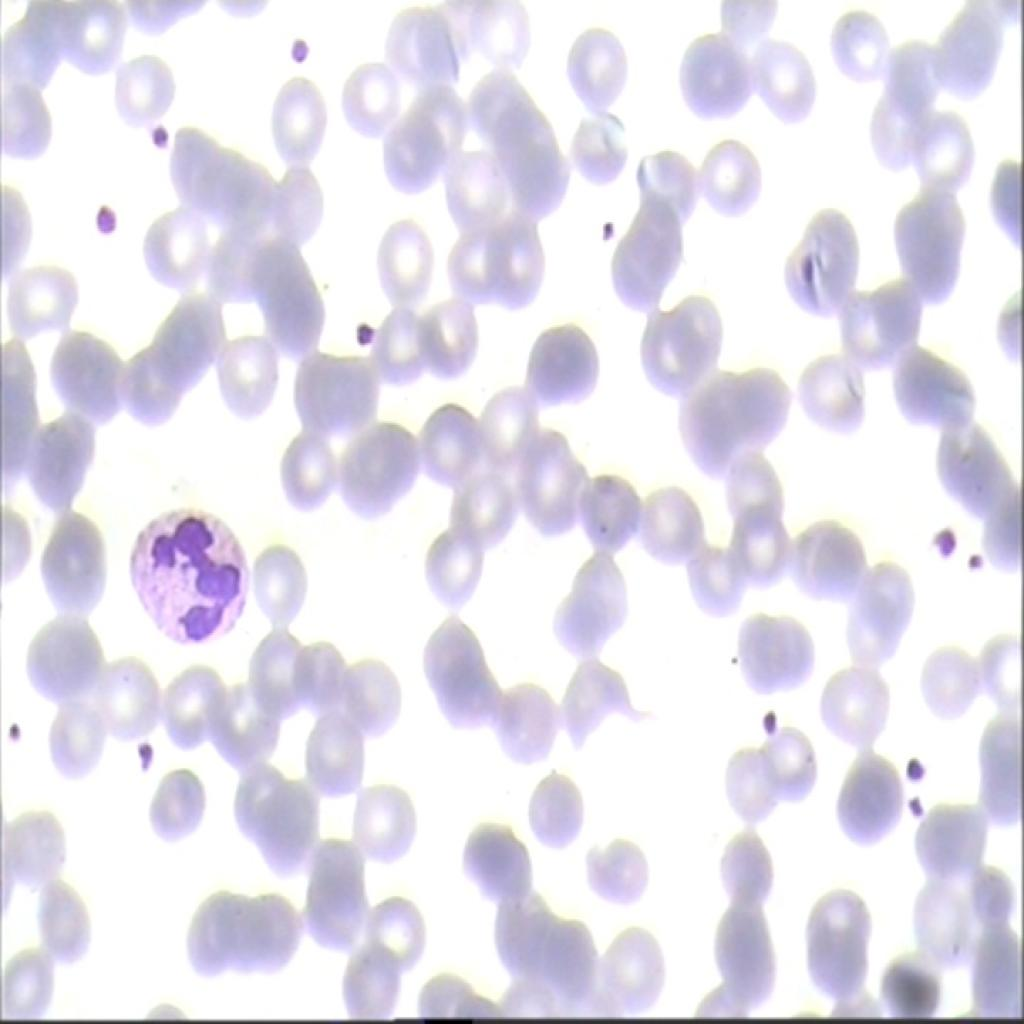Neutrofil: (134, 487, 253, 660)
Platelet: (751, 699, 801, 743), (120, 732, 162, 774), (920, 523, 960, 567), (895, 741, 927, 786), (280, 28, 317, 64), (88, 199, 122, 233), (0, 714, 33, 748), (347, 318, 373, 356), (135, 121, 169, 149), (956, 542, 976, 583), (900, 786, 922, 816), (598, 218, 622, 236)
